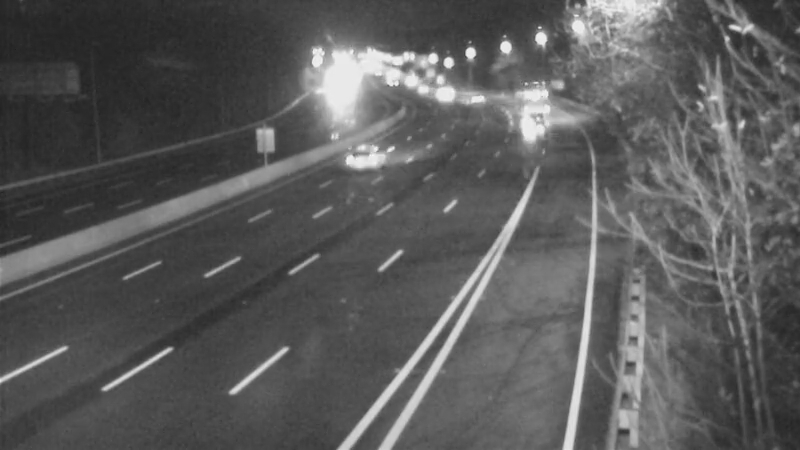vehicle: (323, 118, 403, 198), (417, 65, 467, 115), (452, 73, 502, 123), (510, 71, 560, 121), (509, 106, 559, 156)
